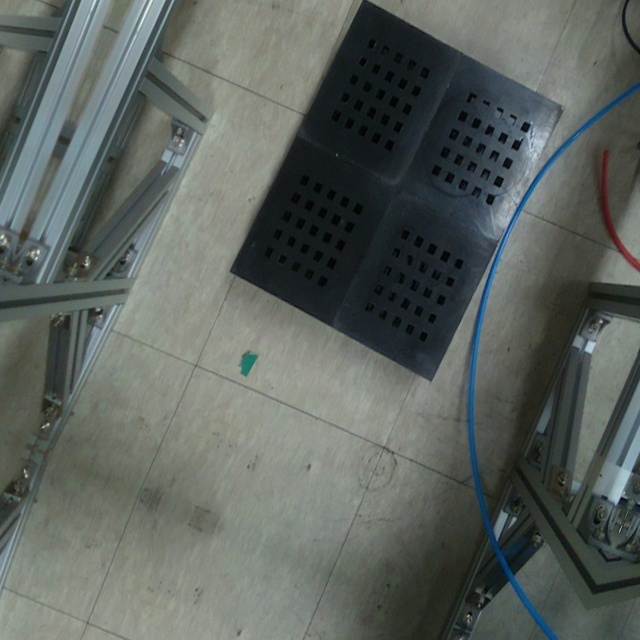pallet: (216, 0, 578, 392)
